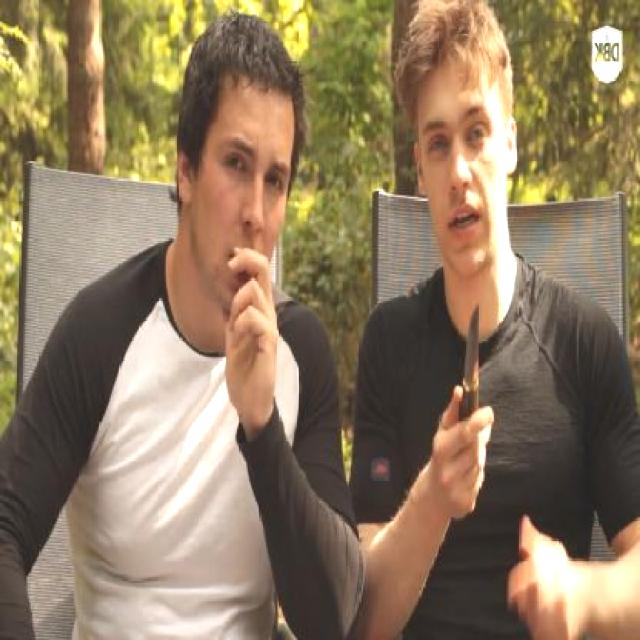knife: (429, 285, 509, 480)
